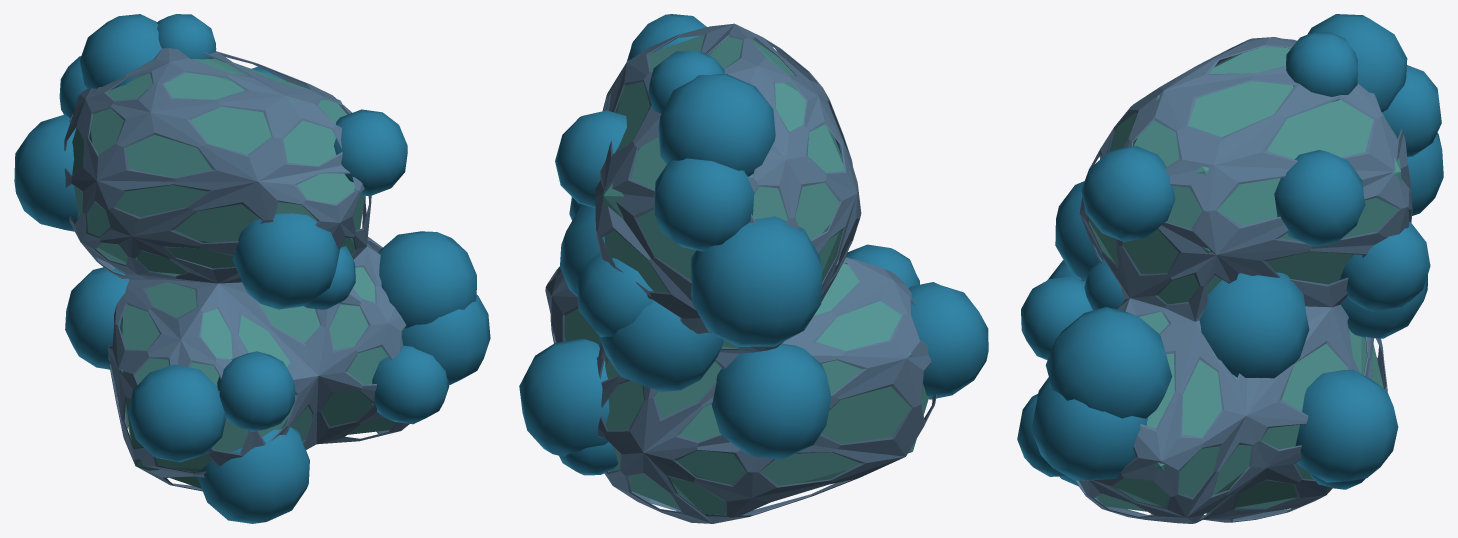
File: glueBush15.fbx
3 views of the same model, side by side, from view 1: azimuth 30°, elevation 25°; view 2: azimuth 150°, elevation 25°; view 3: azimuth 270°, elevation 25° (orthographic). The views are drawn at different scales.
Parts seen in each view (by area): view 1: Mball.004; view 2: Mball.004; view 3: Mball.004.
Part boxes in pixels (left/top/right/bottom): Mball.004: left=14, top=14, right=490, bottom=523; Mball.004: left=519, top=14, right=988, bottom=523; Mball.004: left=1017, top=14, right=1443, bottom=523.
Bounding box in the file's own units: 242 × 283 × 235.
